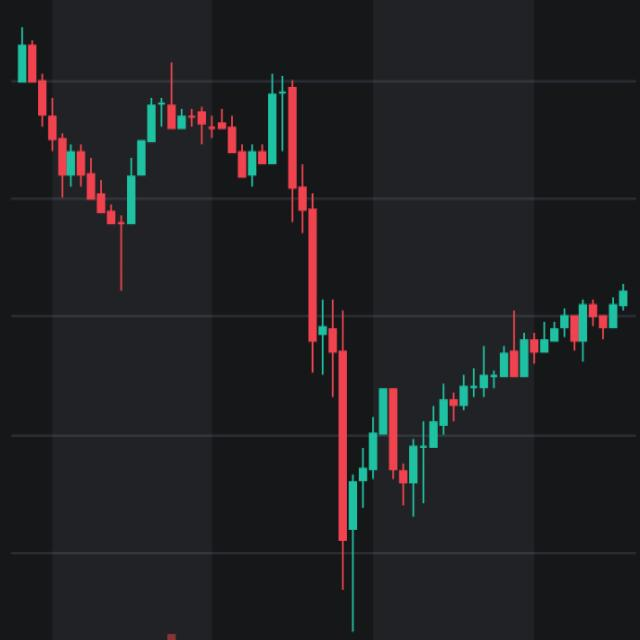Triangle: (294, 269, 448, 612)
